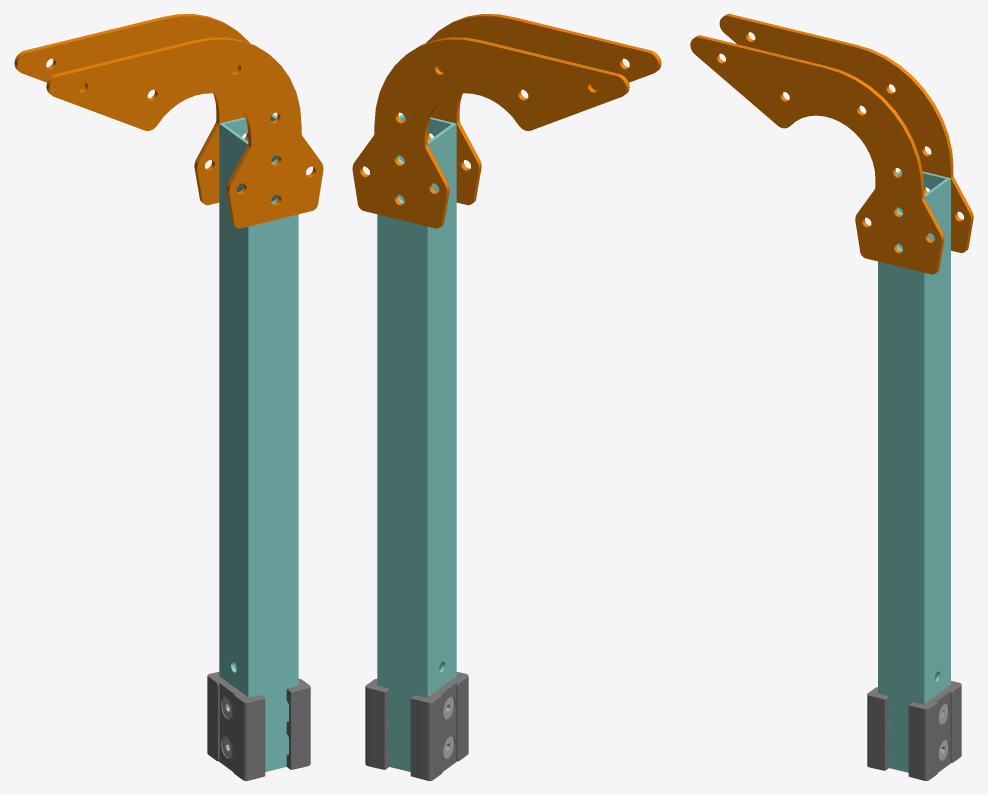
3 renders of one model, left to right at view 1: azimuth 30°, elevation 25°; view 2: azimuth 150°, elevation 25°; view 3: azimuth 330°, elevation 25°, orthographic. The views are drawn at different scales.
Visible parts, largest first — view 1: CL-R-03, Part 2, Part 2-Mirrored, am-4630 1x1 Clamp Slider Block (×2); view 2: CL-R-03, Part 2-Mirrored, Part 2, am-4630 1x1 Clamp Slider Block (×2); view 3: CL-R-03, Part 2, Part 2-Mirrored, am-4630 1x1 Clamp Slider Block (×2).
Boxes of the visible parts, x1,y1,x2,y2 form: CL-R-03: (219,114,298,771); Part 2: (46,37,323,228); Part 2-Mirrored: (14,14,249,205); am-4630 1x1 Clamp Slider Block (×2): (207,672,310,780); CL-R-03: (377,114,456,771); Part 2-Mirrored: (352,37,629,228); Part 2: (426,14,661,205); am-4630 1x1 Clamp Slider Block (×2): (365,672,468,780); CL-R-03: (878,170,950,772); Part 2: (690,35,944,274); Part 2-Mirrored: (719,14,973,252); am-4630 1x1 Clamp Slider Block (×2): (867,681,961,780).
Bounding box in the file's own units: 0.1385 × 0.3616 × 0.034.
